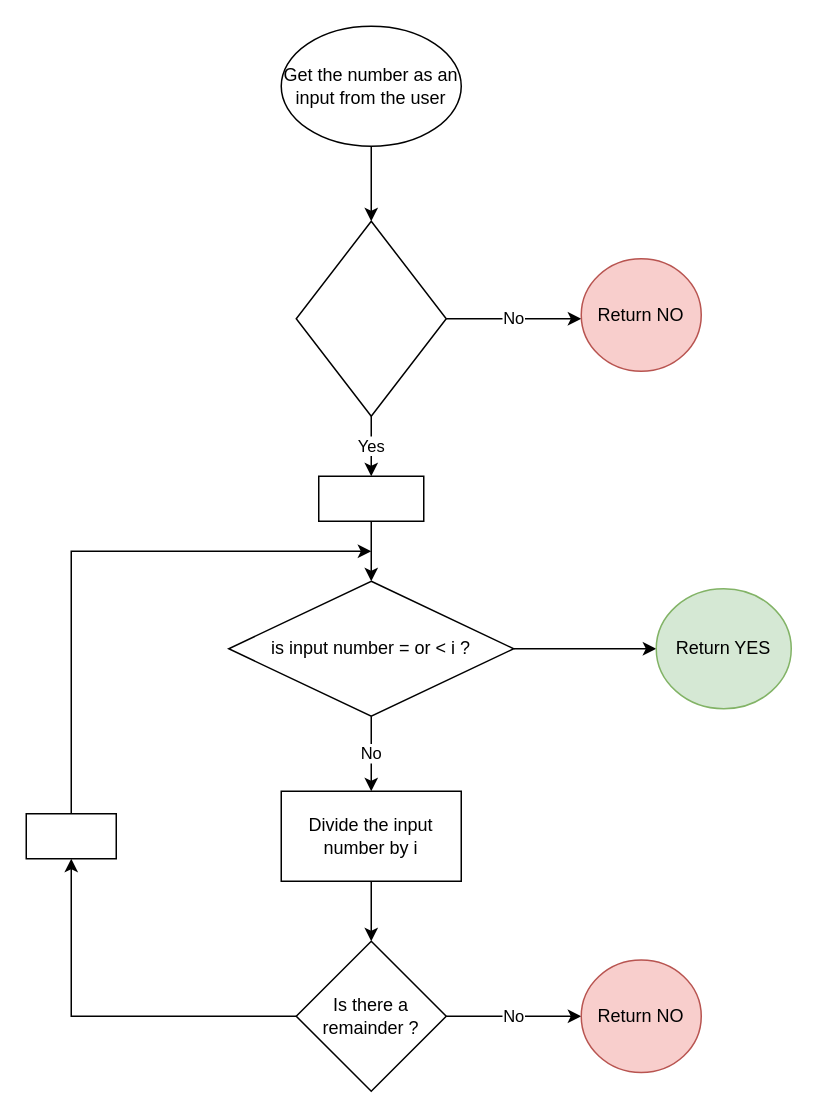
Some shapes in this 818 by 1118 pixel diagram are drawn without their labels. Here are the shapes that lost their labels. From the top down, the centre of each, then its label:
At point (370, 318): "Is the number >1".
At point (370, 498): "i=2".
At point (70, 835): "i=i+1".
